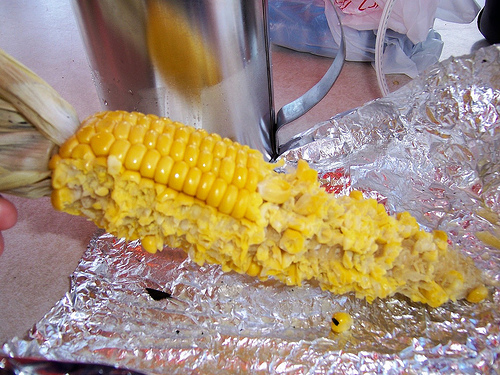corn: (54, 106, 496, 336)
